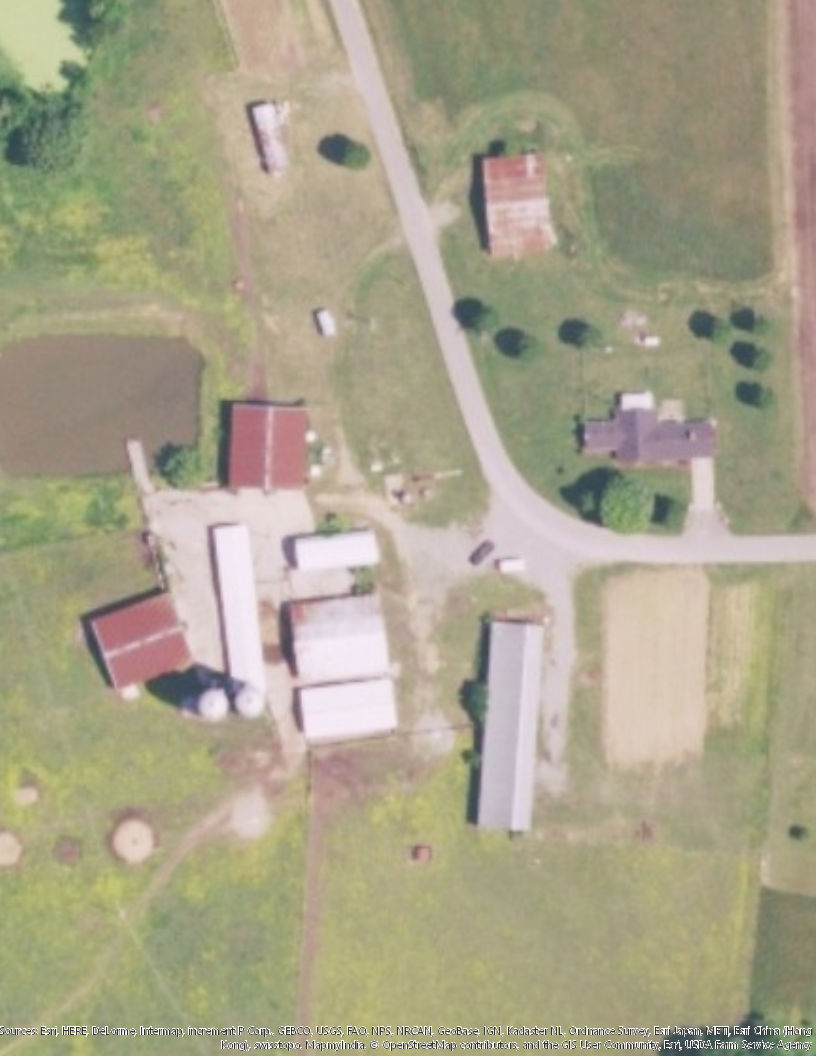cafo: (458, 607, 552, 844), (74, 583, 213, 694), (218, 384, 328, 515), (200, 520, 270, 694), (284, 588, 399, 683), (478, 149, 567, 259), (286, 671, 411, 737), (271, 515, 392, 574)
